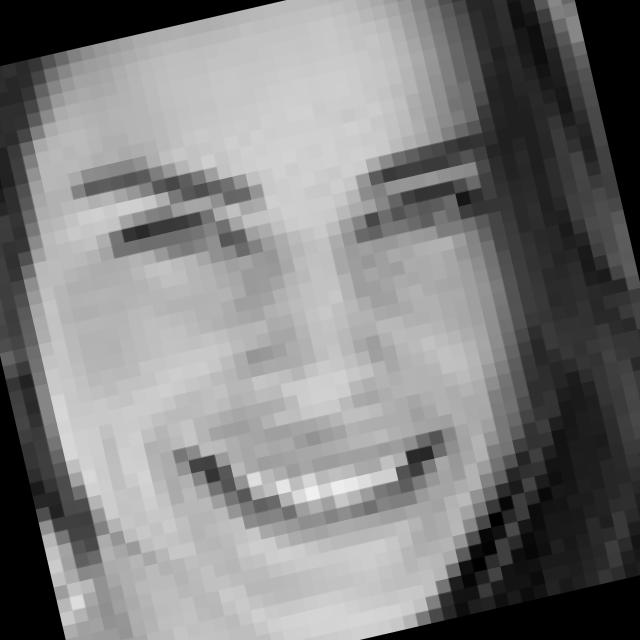happy: (52, 71, 567, 602)
